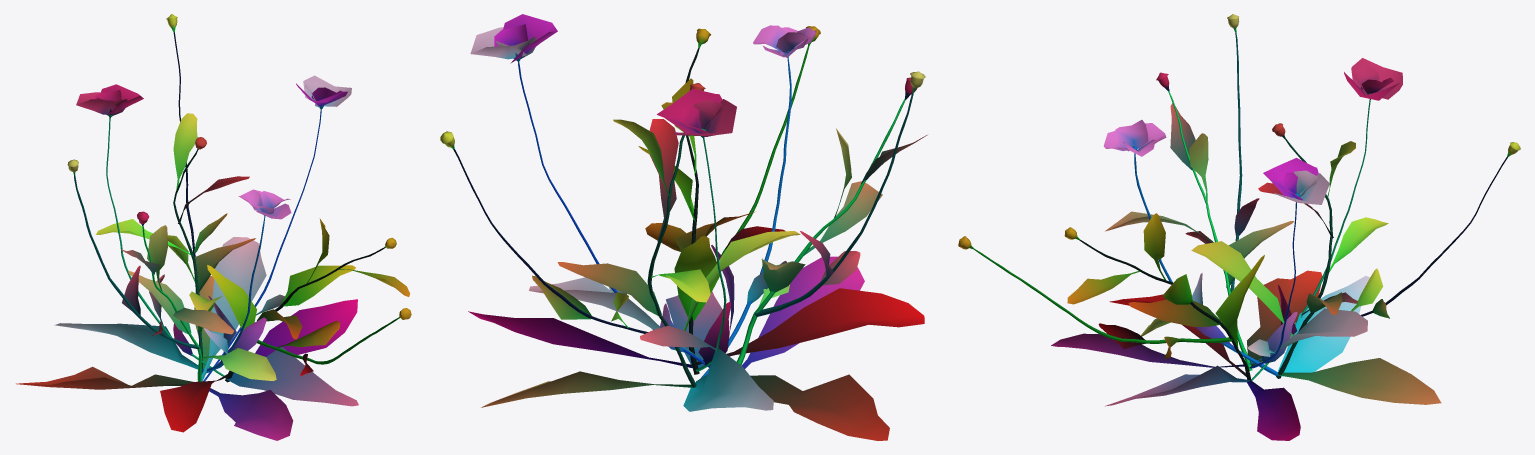
The model's file is Field_Poppy_vmcobd0ja_Mid_vmcobd0ja_VarD_LOD0.fbx.
3 views of the same model, side by side, from view 1: azimuth 30°, elevation 25°; view 2: azimuth 150°, elevation 25°; view 3: azimuth 270°, elevation 25° (orthographic). The views are drawn at different scales.
Parts seen in each view (by area): view 1: _2vne_VarD_LOD1; view 2: _2vne_VarD_LOD1; view 3: _2vne_VarD_LOD1.
Boxes of the visible parts, bbox=[...] form: _2vne_VarD_LOD1: bbox=[16, 14, 411, 440]; _2vne_VarD_LOD1: bbox=[440, 14, 927, 440]; _2vne_VarD_LOD1: bbox=[958, 14, 1520, 440].
Bounding box in the file's own units: 55.44 × 42.45 × 75.59.
